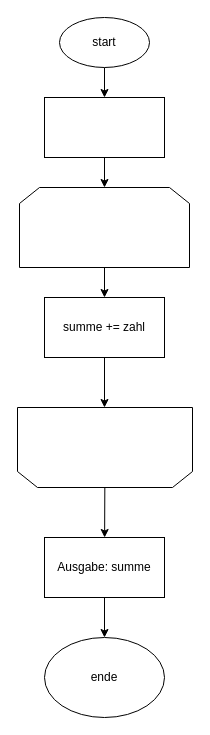
The diagram is 210 pixels wide and 735 high, and some of its shapes have lost their labels. Here are the shapes that lost their labels. From the top down, the centre of each, then its label:
pixel 104 127: summe = 0
pixel 104 227: for zahl im bereich 1-100
